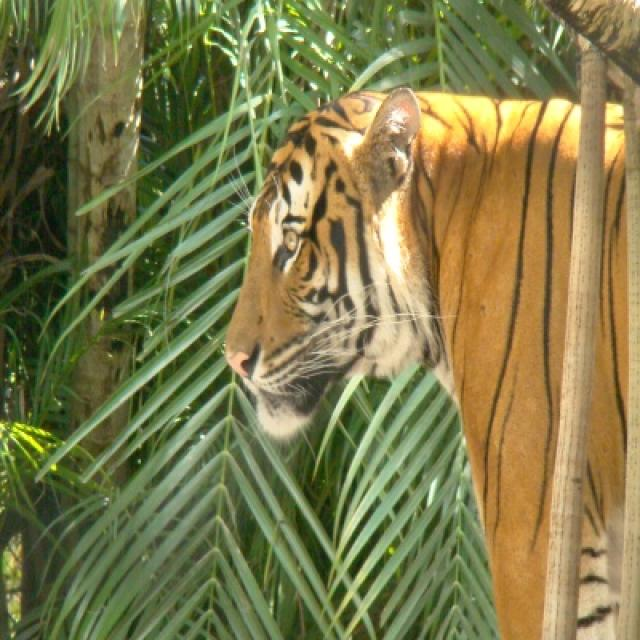Tiger: (223, 86, 629, 638)
